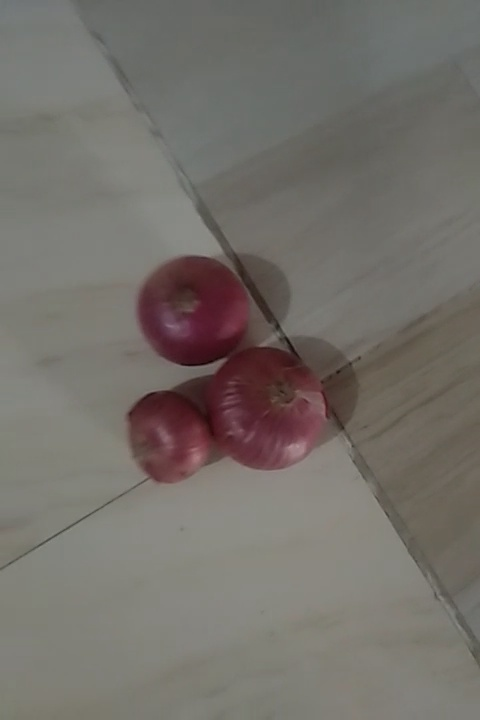onion: (209, 353, 338, 470), (144, 258, 255, 362), (134, 383, 211, 491)
